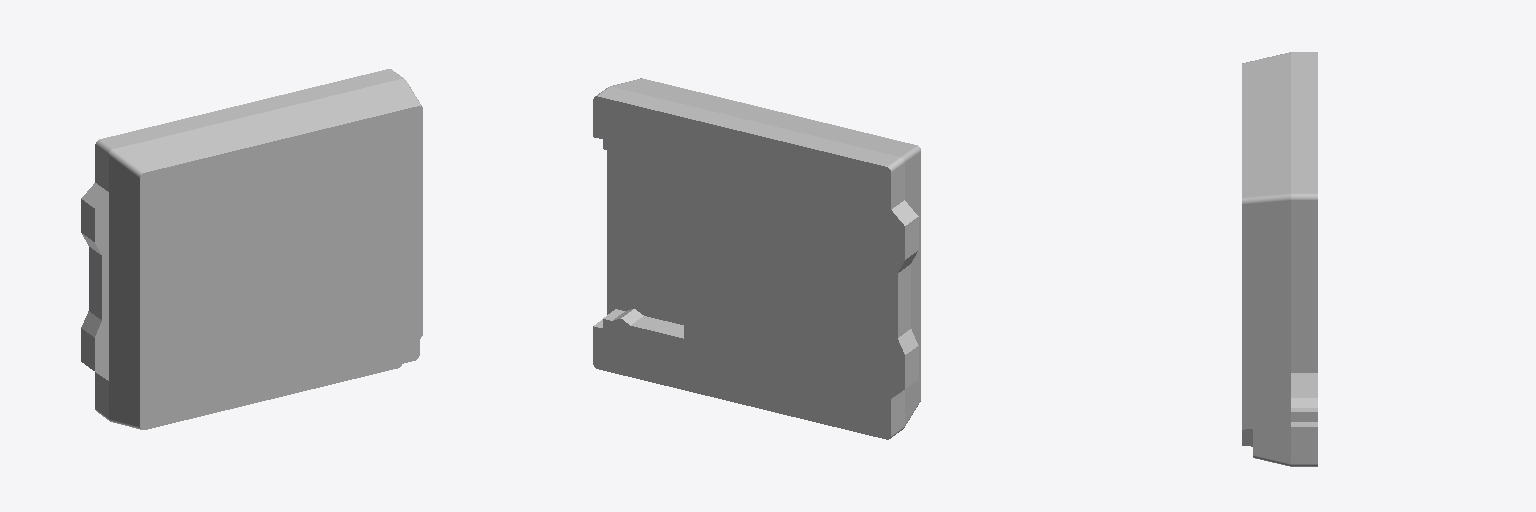
The model's file is lm281b full assembly.obj.
The picture shows the model from 3 angles: view 1: azimuth 30°, elevation 25°; view 2: azimuth 150°, elevation 25°; view 3: azimuth 270°, elevation 25°; orthographic projection.
Parts seen in each view (by area): view 1: lm281b_full_assembly; view 2: lm281b_full_assembly; view 3: lm281b_full_assembly.
Part boxes in pixels (left/top/right/bottom): lm281b_full_assembly: left=81, top=69, right=422, bottom=429; lm281b_full_assembly: left=593, top=78, right=920, bottom=439; lm281b_full_assembly: left=1242, top=52, right=1317, bottom=466.
Size of the model in its own units: 3.35 by 2.8 by 0.7.